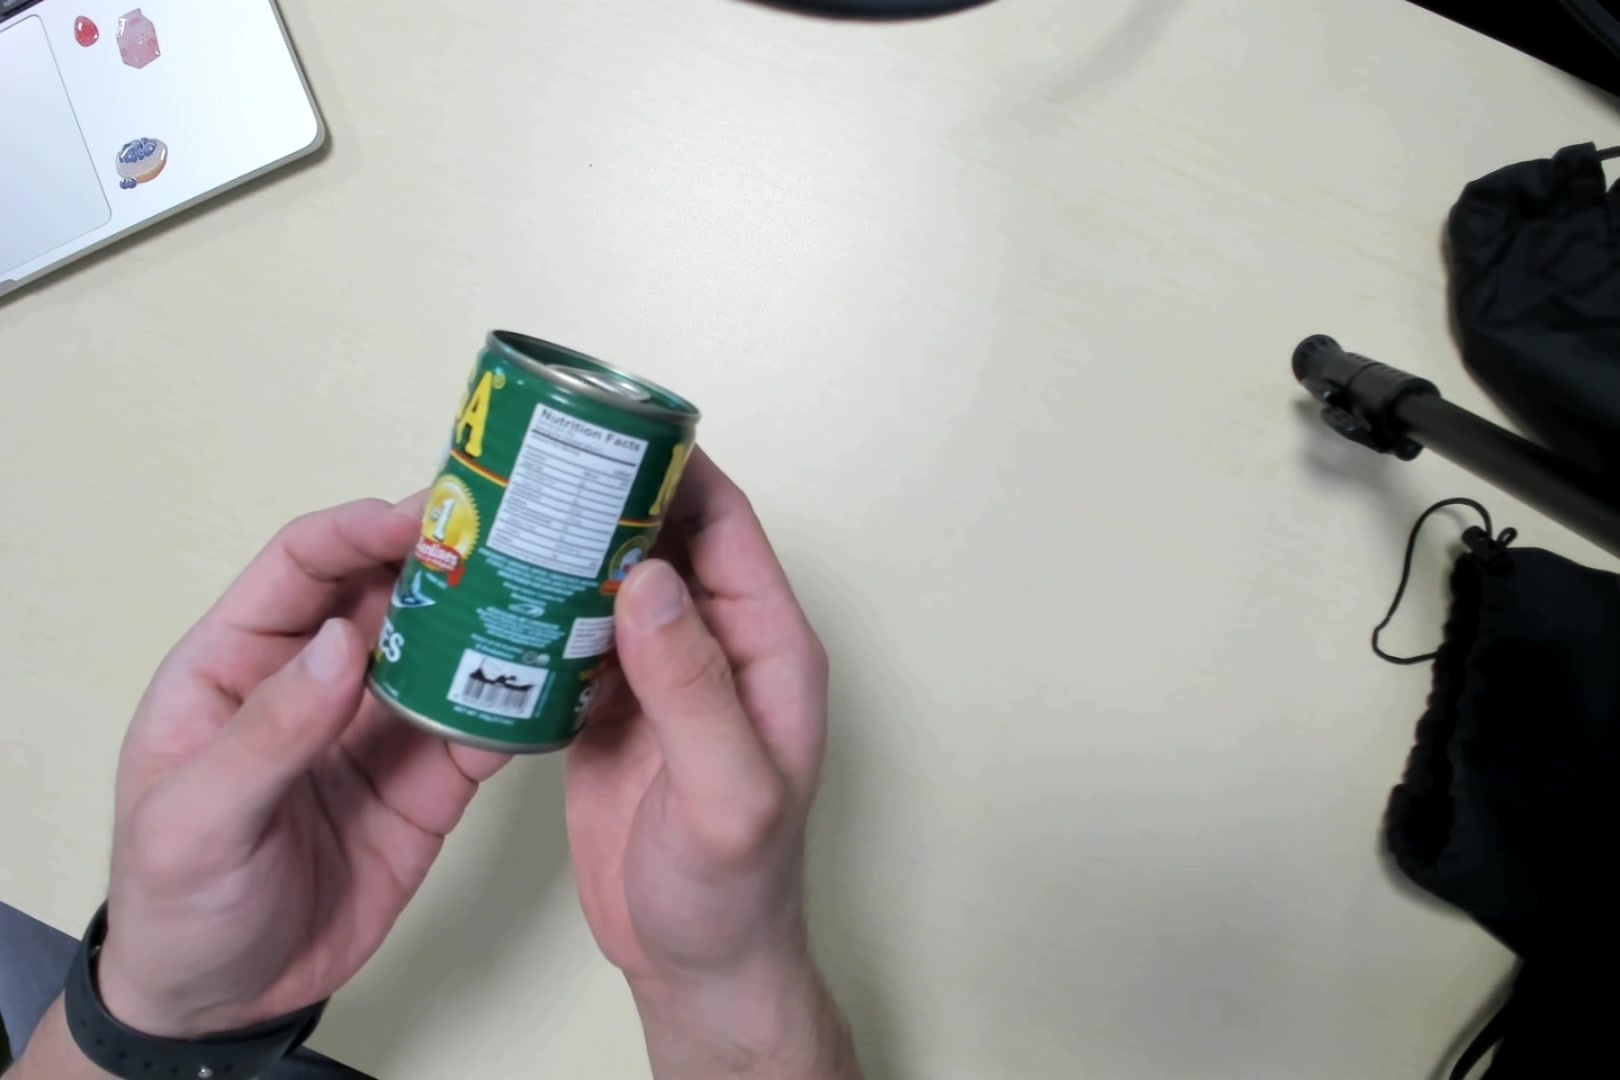CannedSardingMackerel_100-199g_NonHalal_NonHealthy: (364, 316, 695, 751)
